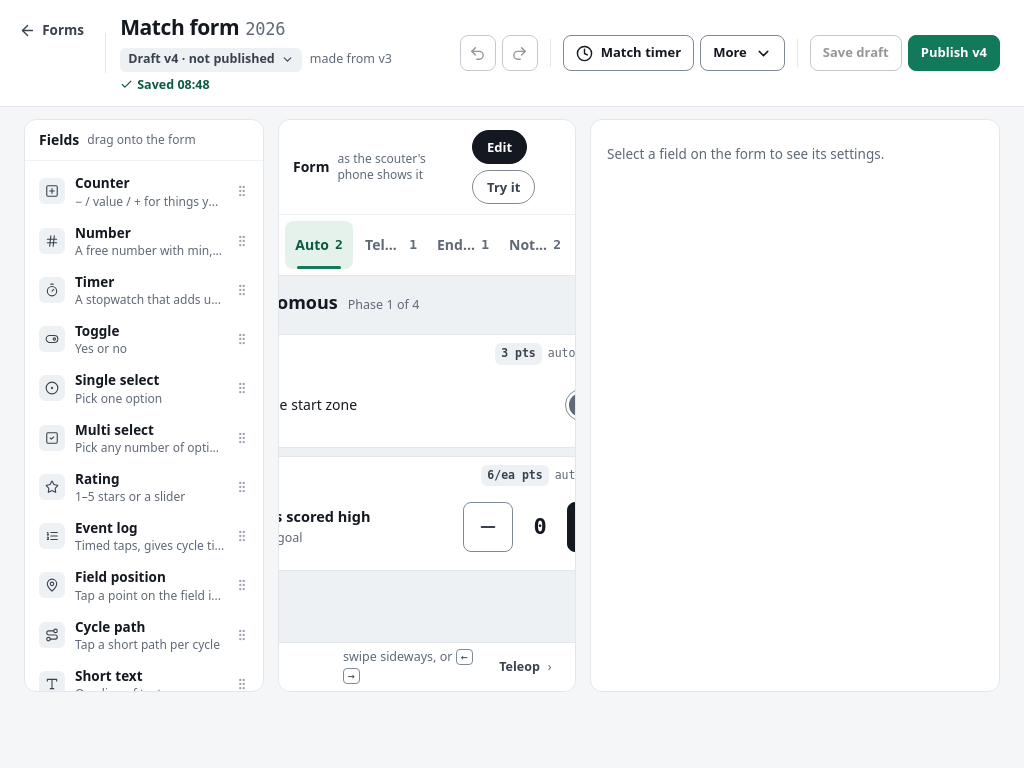
Test: Builder undo and redo (UF.14) › undoing Remove field on a field never saved brings it back with its points
Expected: the element "Form" is shown, [278,119,576,692]
Click the button with aria-label "Add Counter:": (144, 191) [31,167,257,216]
(page scrolled)
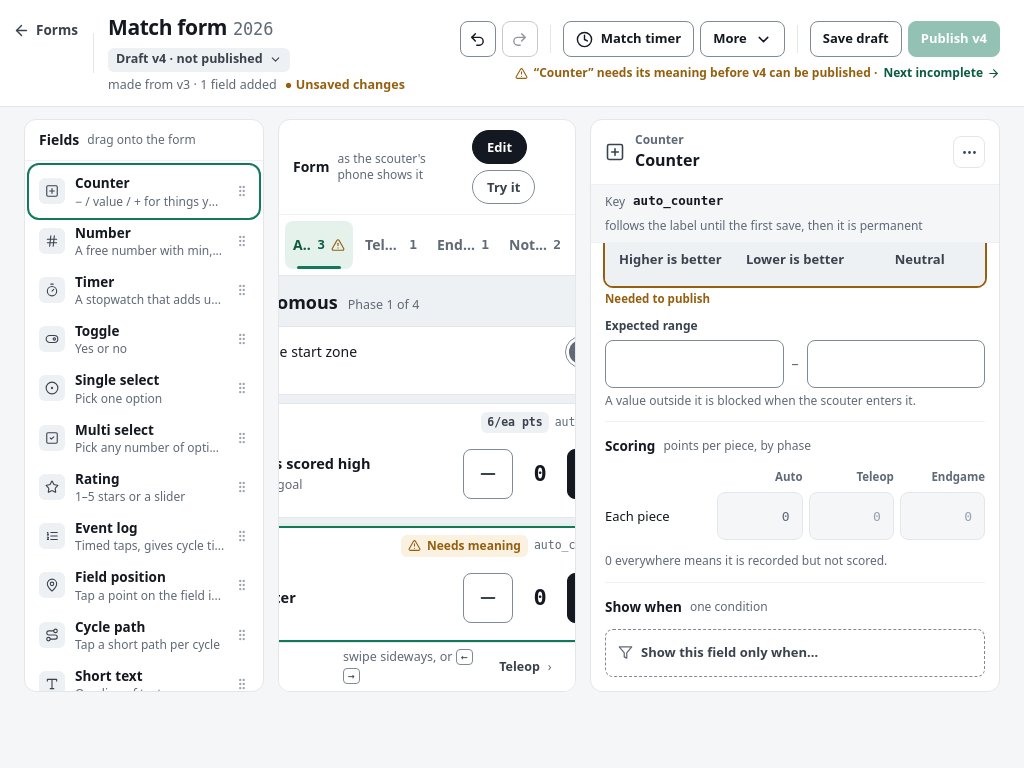
Replace the text in the field named "Points per unit" with "5": (760, 516) [717,492,803,540]
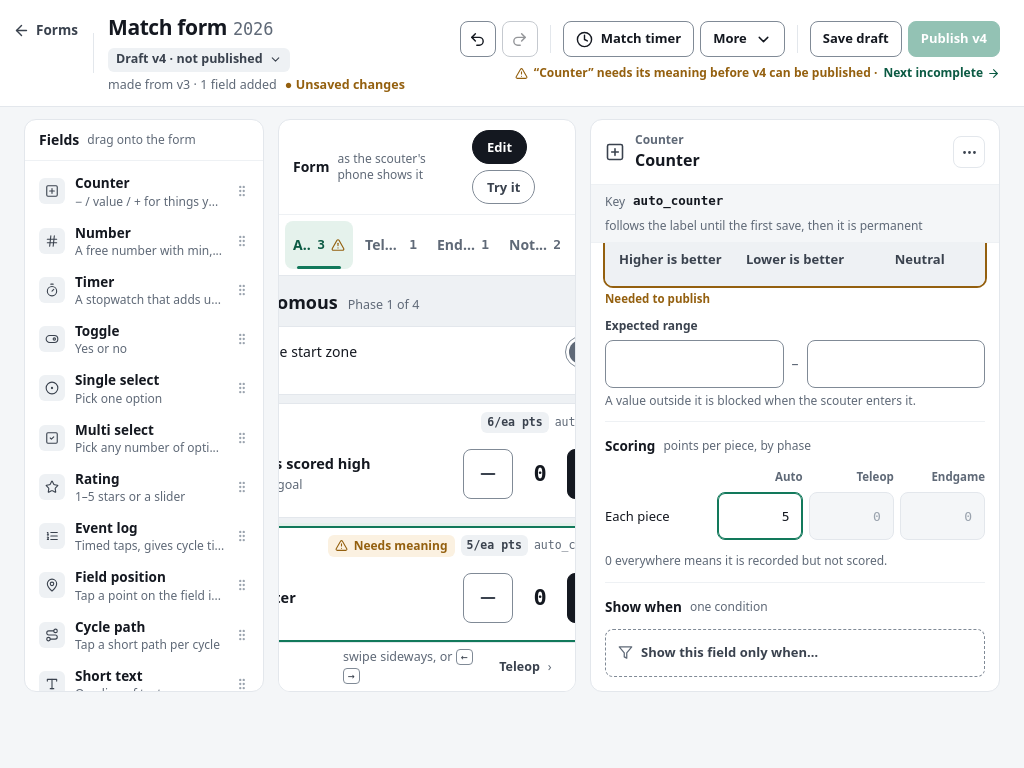
Click the button named "Field actions: Counter": (969, 152) [953,136,985,168]
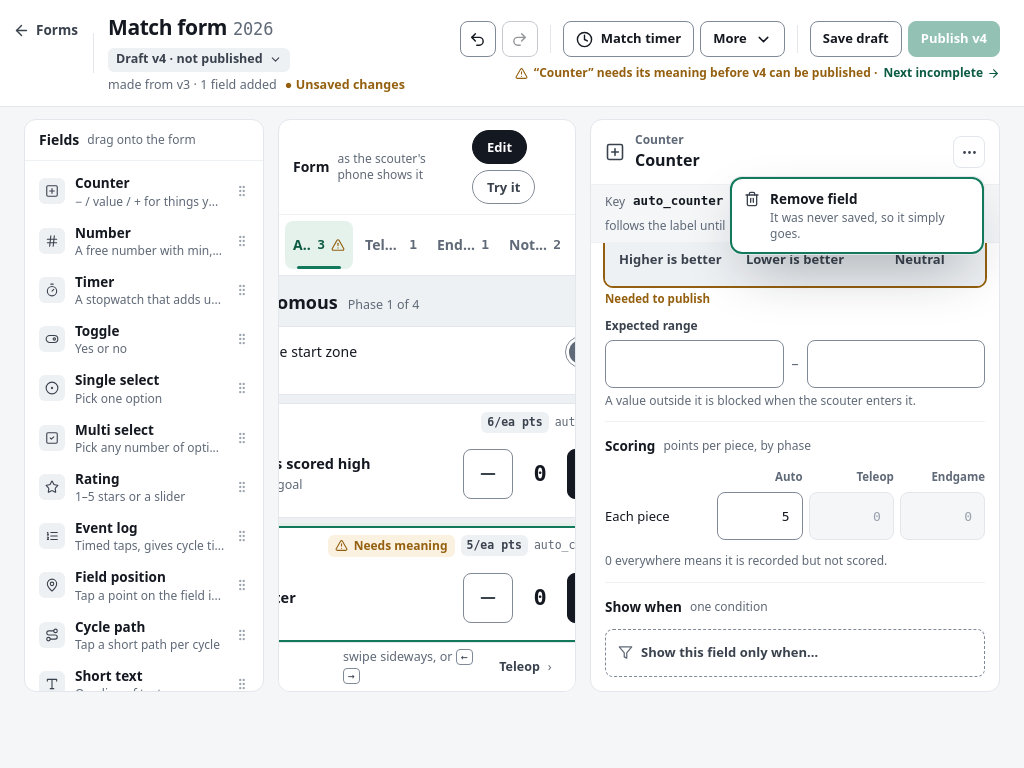
Click the menu item "Remove field It was never saved, so it simply goes.": (857, 215) [734,181,980,250]
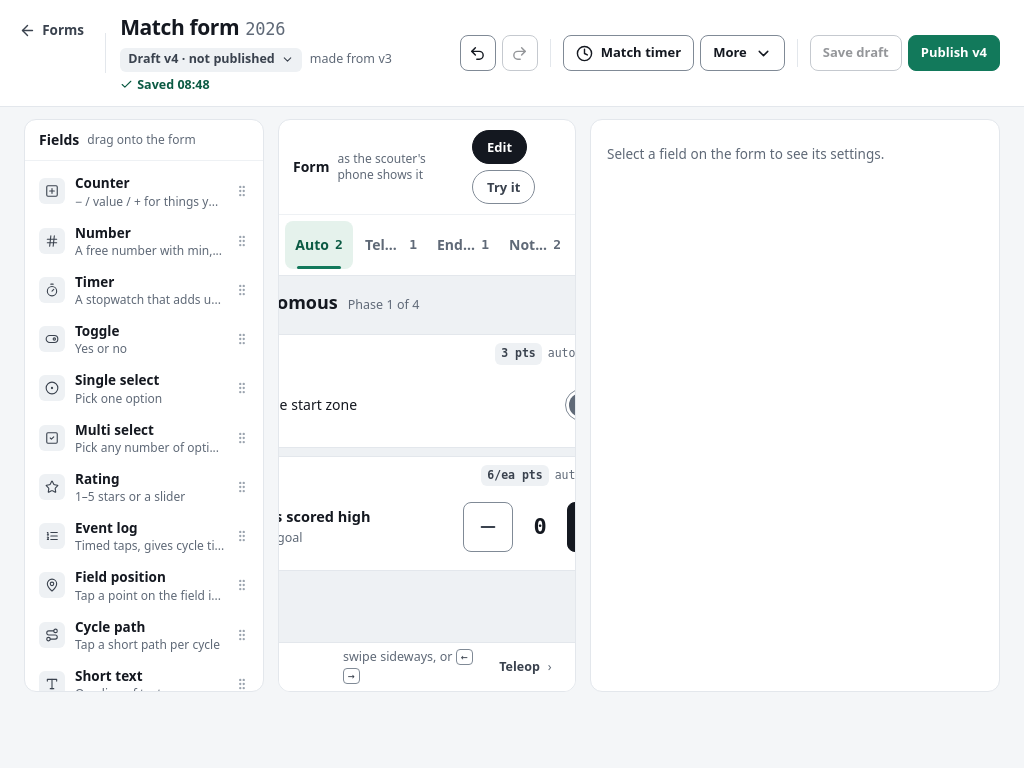
Expected: the text "auto_counter" is gone
Click the button named "Undo": (478, 53) [460,35,496,71]
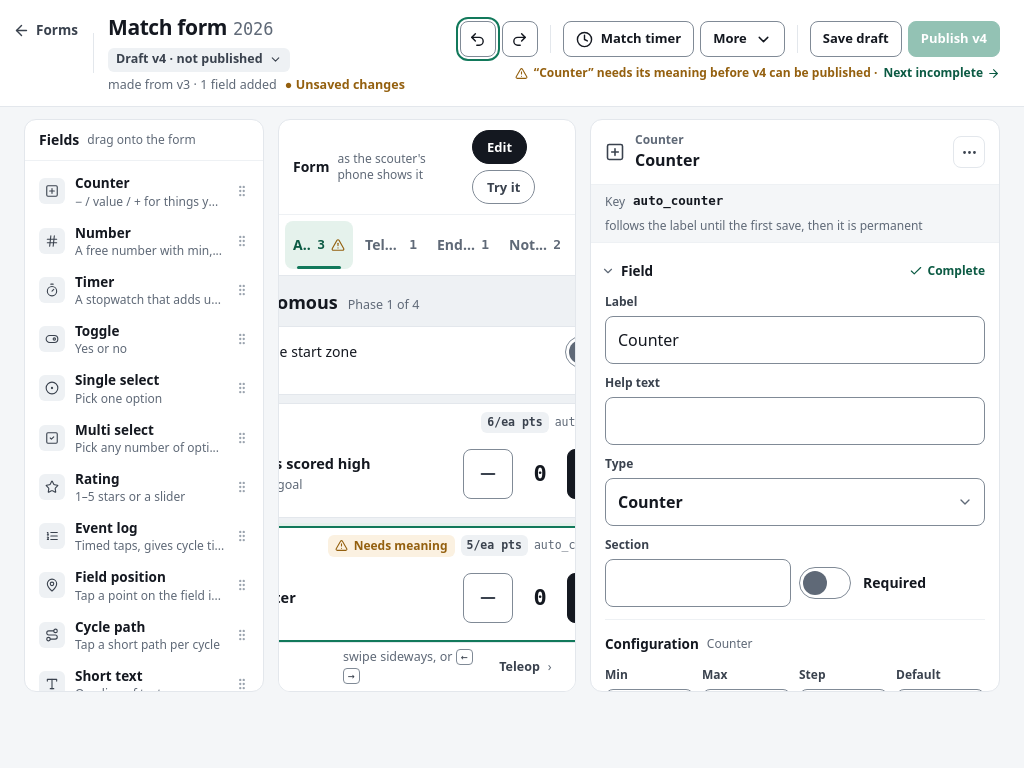
Expected: the text "5/ea pts" is shown, [460,535,528,556]
Click the button named "Redo": (520, 39) [502,21,538,57]
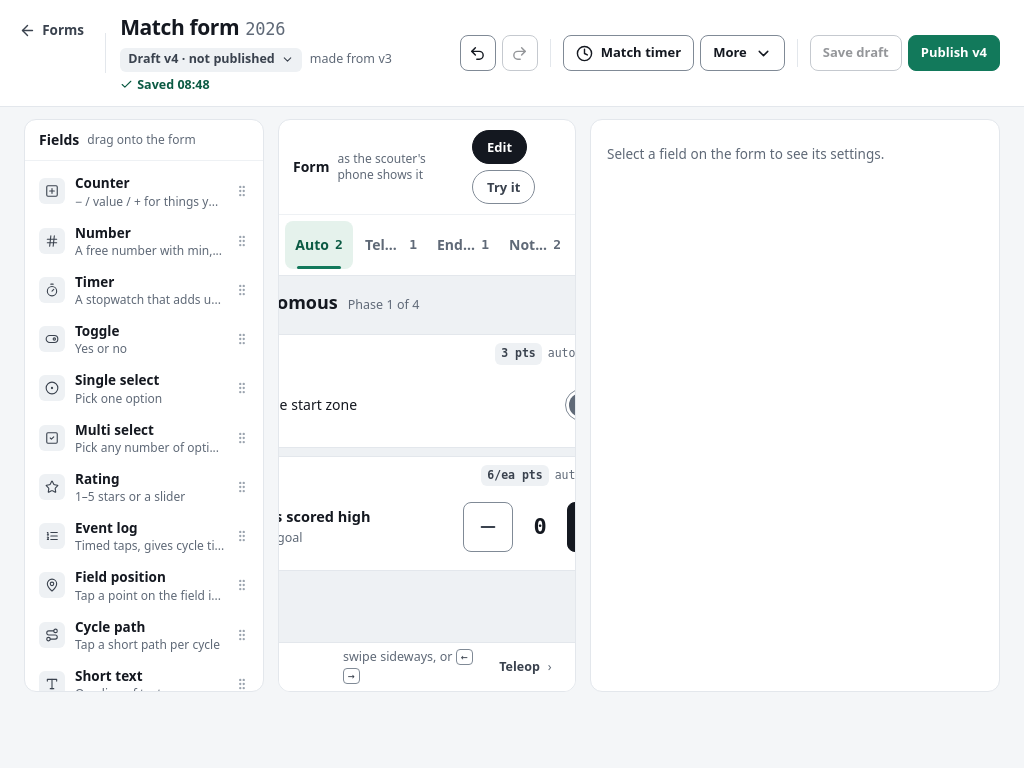
Expected: the text "auto_counter" is gone
